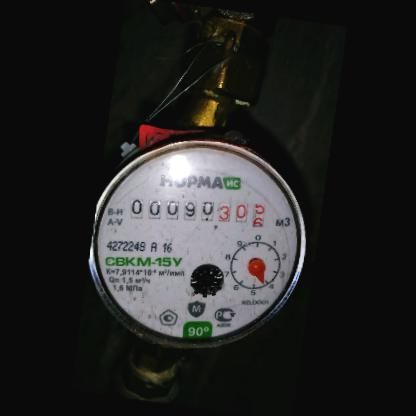digital_screen: (125, 189, 218, 231)
